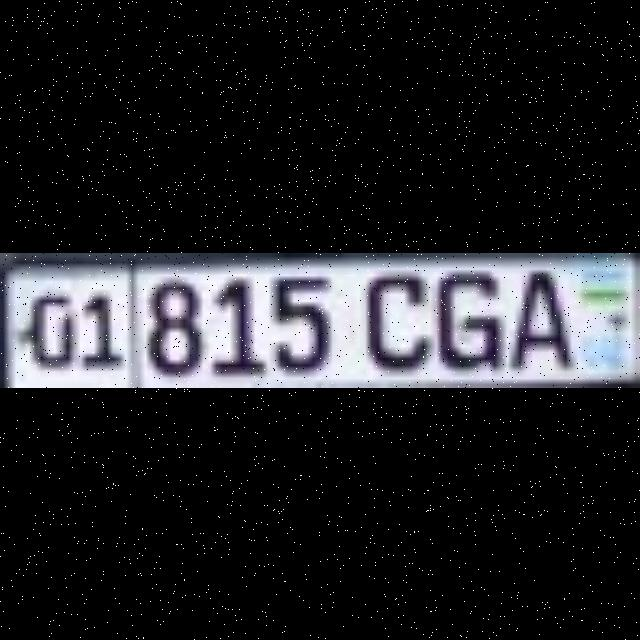0: (26, 284, 64, 356)
1: (200, 266, 258, 368), (77, 284, 116, 362)
5: (265, 266, 323, 368)
8: (142, 272, 194, 368)
A: (504, 264, 562, 362)
C: (362, 264, 420, 362)
G: (427, 264, 498, 362)
